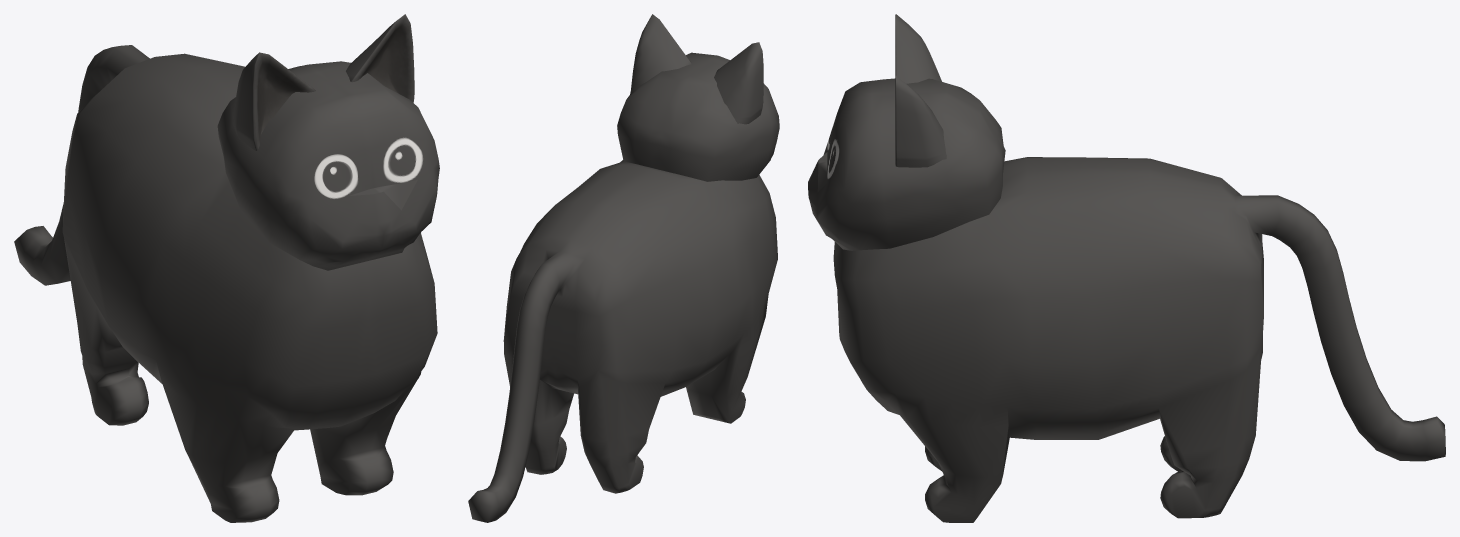
The model's file is Cat.fbx.
3 renders of one model, left to right at view 1: azimuth 30°, elevation 25°; view 2: azimuth 150°, elevation 25°; view 3: azimuth 270°, elevation 25°, orthographic. The views are drawn at different scales.
Visible parts, largest first — view 1: Cat; view 2: Cat; view 3: Cat.
Part boxes in pixels (bbox=[...]): Cat: bbox=[14, 14, 439, 522]; Cat: bbox=[468, 14, 779, 522]; Cat: bbox=[808, 14, 1445, 522].
Bounding box in the file's own units: 5.03 × 9.23 × 12.05.
